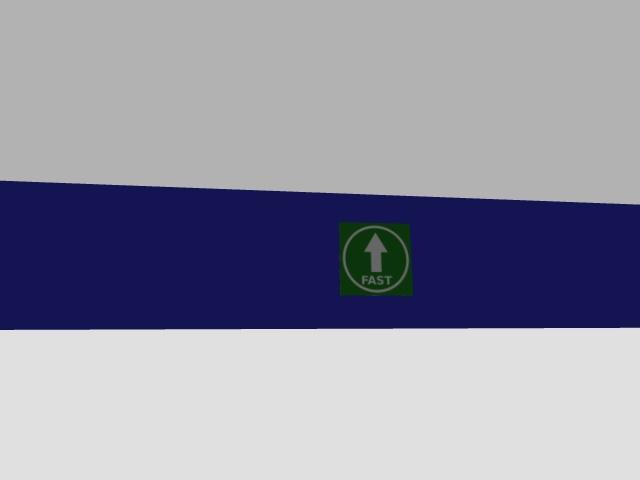fast: (340, 223, 411, 295)
